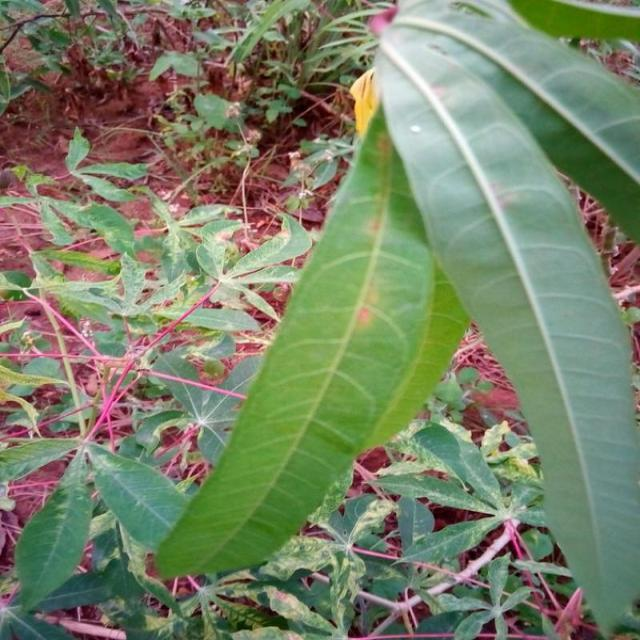cassava leaf: (374, 0, 640, 637), (154, 85, 473, 580)
